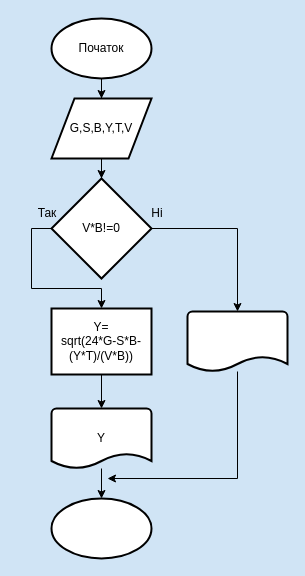
Image size: 305x576. Some labels were removed from this diagram. Here are the shapes that lost their labels. From the top down, the centre of each, then its label:
At point (237, 341): "Nan".
At point (101, 528): "Кінець".
